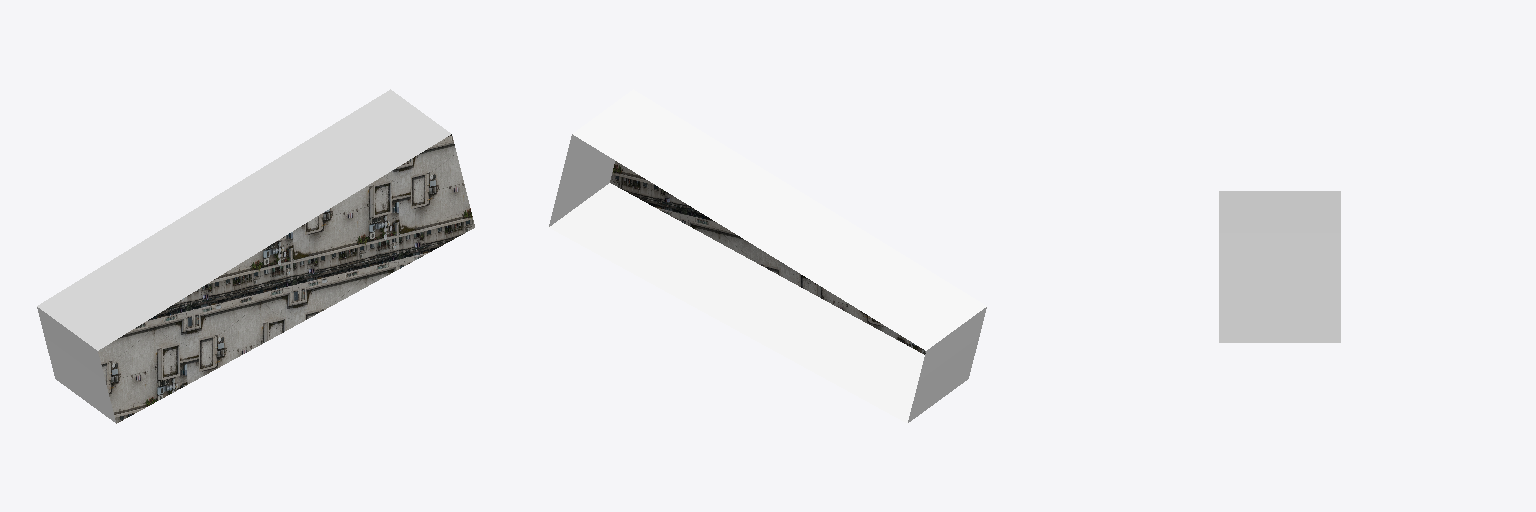
The picture shows the model from 3 angles: view 1: azimuth 30°, elevation 25°; view 2: azimuth 150°, elevation 25°; view 3: azimuth 270°, elevation 25°; orthographic projection.
Parts seen in each view (by area): view 1: Building; view 2: Building; view 3: Building.
Boxes of the visible parts, box(x1,y1,x2,y2) form: Building: box(37, 89, 474, 423); Building: box(549, 89, 986, 423); Building: box(1219, 191, 1340, 342).
Size of the model in its own units: 21.37 by 11.24 by 6.
Materials: 2 (1 with a texture image).